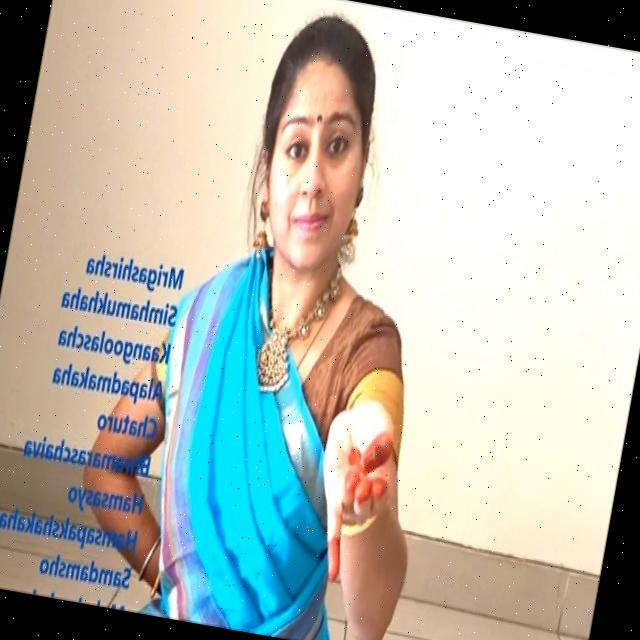Chatura: (290, 374, 412, 597)
lady: (226, 9, 404, 301)
text: (0, 230, 191, 611)
